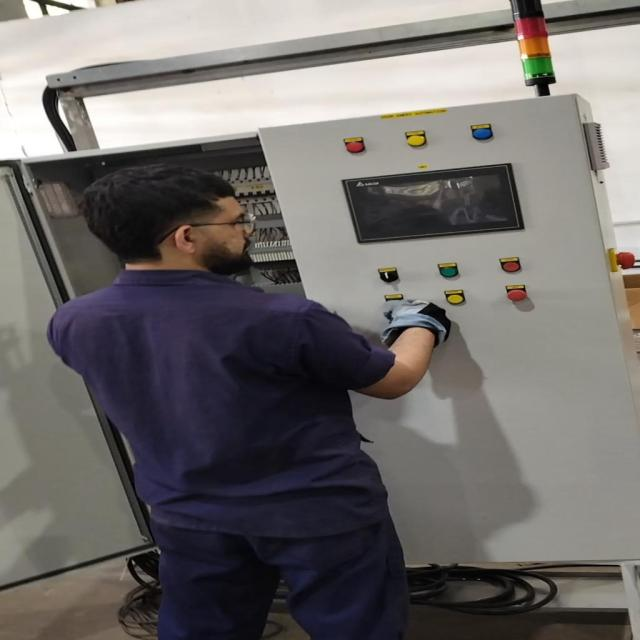Gloves-Detection: (377, 298, 442, 350)
